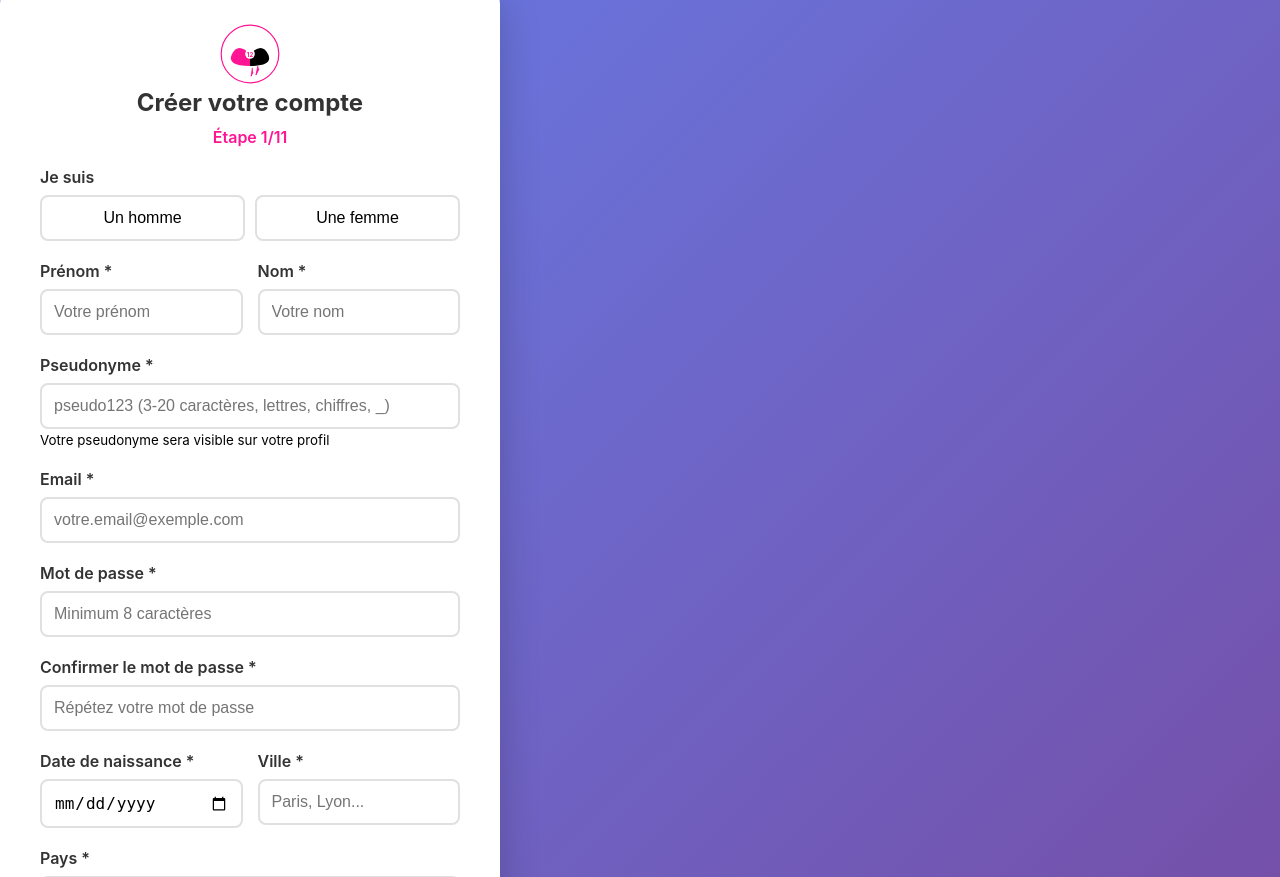
Test: SignupForm - Pseudonym Validation › should show error for pseudonym too short
Type "ab" into the field with placeholder "pseudo123 (3-20 caractères, lettres, chiffres, _)".
click(250, 406); type("ab")  # box [40,383,460,429]
(page scrolled)
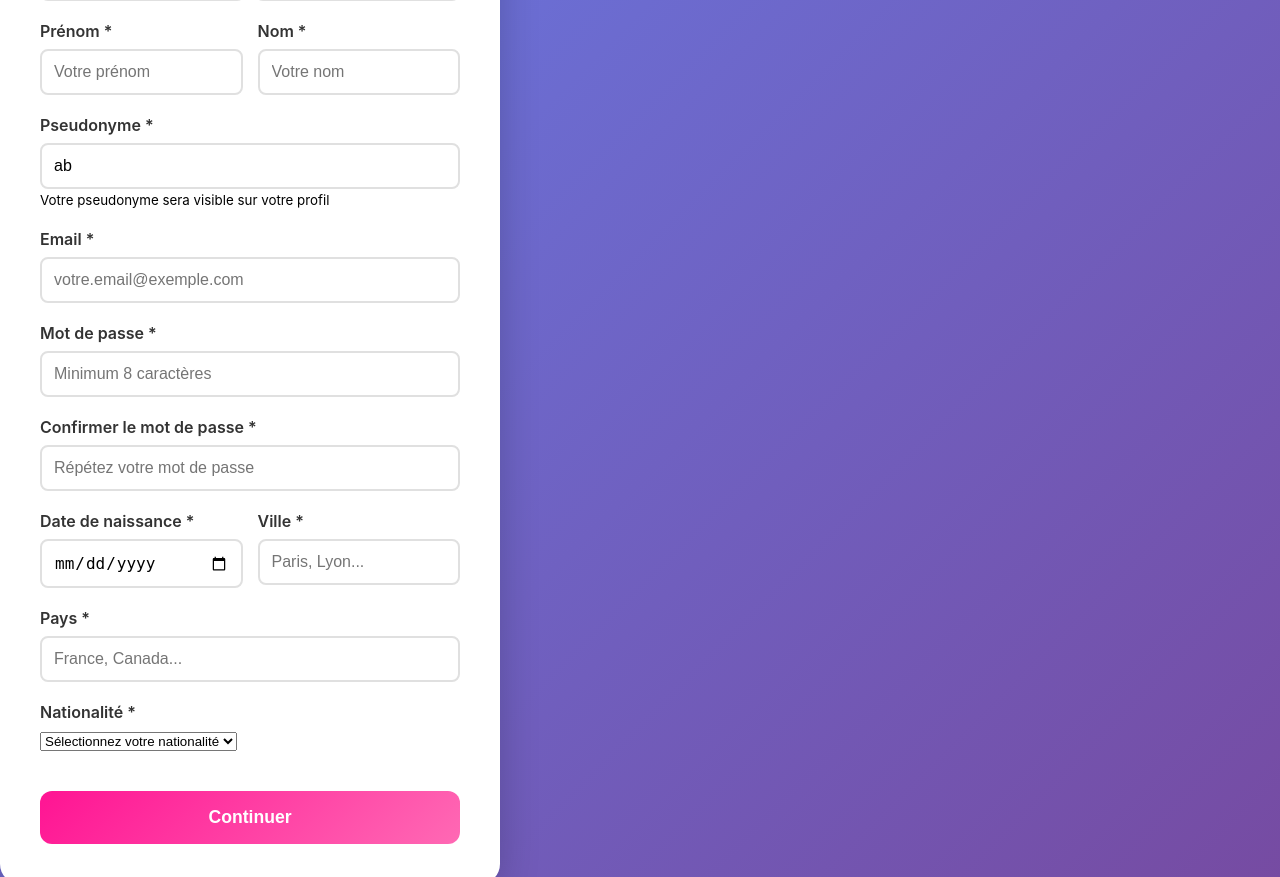
Click the button "Continuer".
click(250, 818)  # box [40,791,460,844]
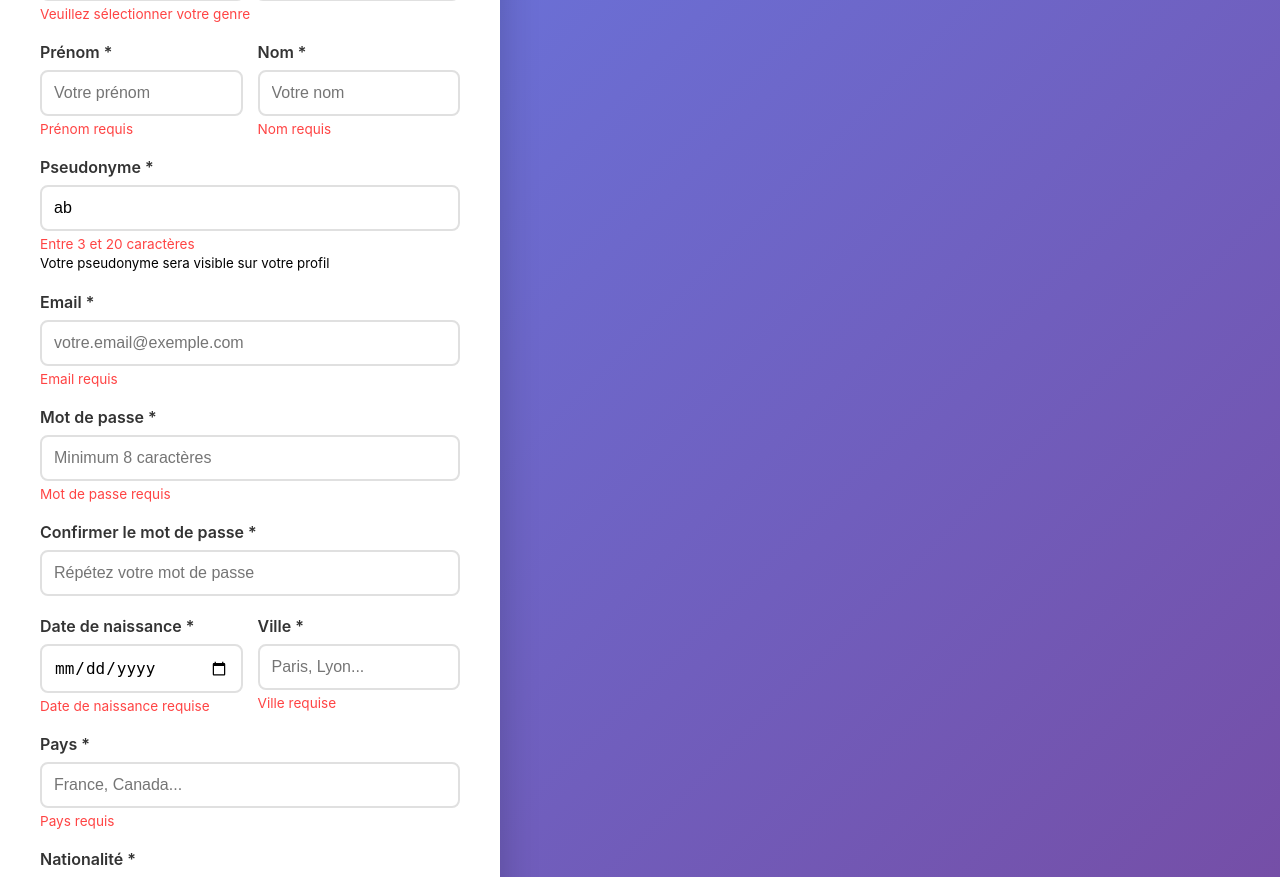
Now the text "Entre 3 et 20 caractères" is shown, box [40,236,195,252]
